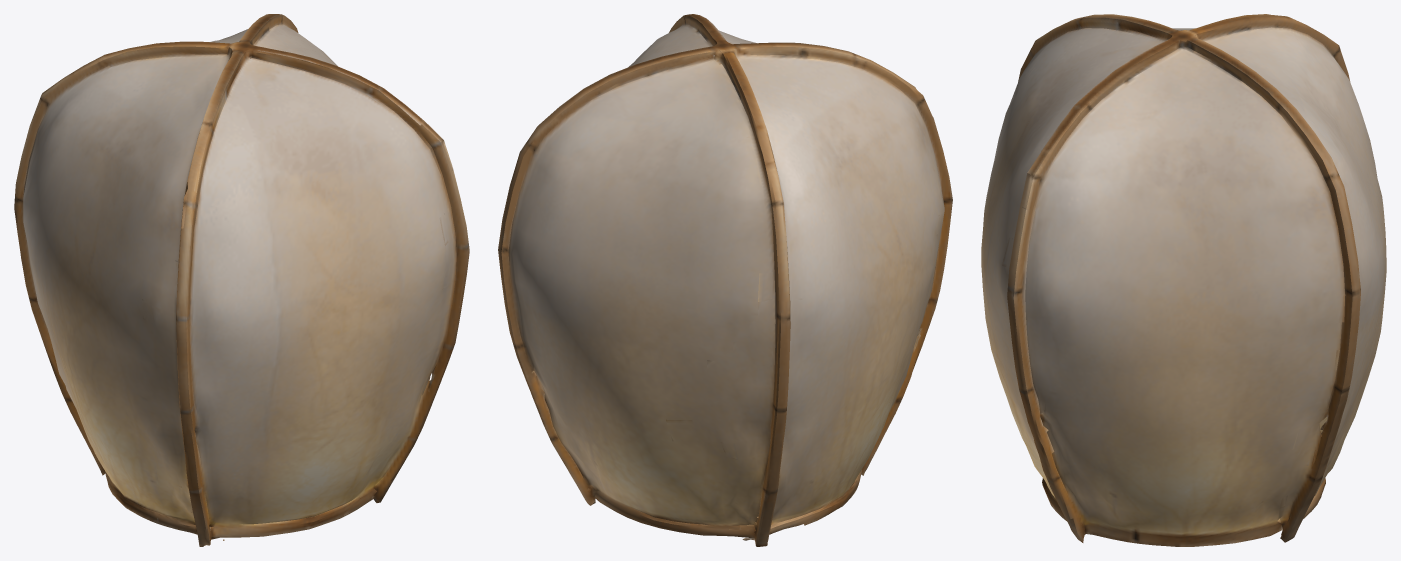
File: Normal.glb
3 renders of one model, left to right at view 1: azimuth 30°, elevation 25°; view 2: azimuth 150°, elevation 25°; view 3: azimuth 270°, elevation 25°, orthographic. The views are drawn at different scales.
Visible parts, largest first — view 1: Mesh0; view 2: Mesh0; view 3: Mesh0.
Boxes of the visible parts, left/top/right/bottom form: Mesh0: left=14, top=14, right=469, bottom=546; Mesh0: left=498, top=14, right=952, bottom=546; Mesh0: left=981, top=14, right=1386, bottom=546.
Size of the model in its own units: 1.48 by 1.91 by 1.48.
Materials: 1 (1 with a texture image).
